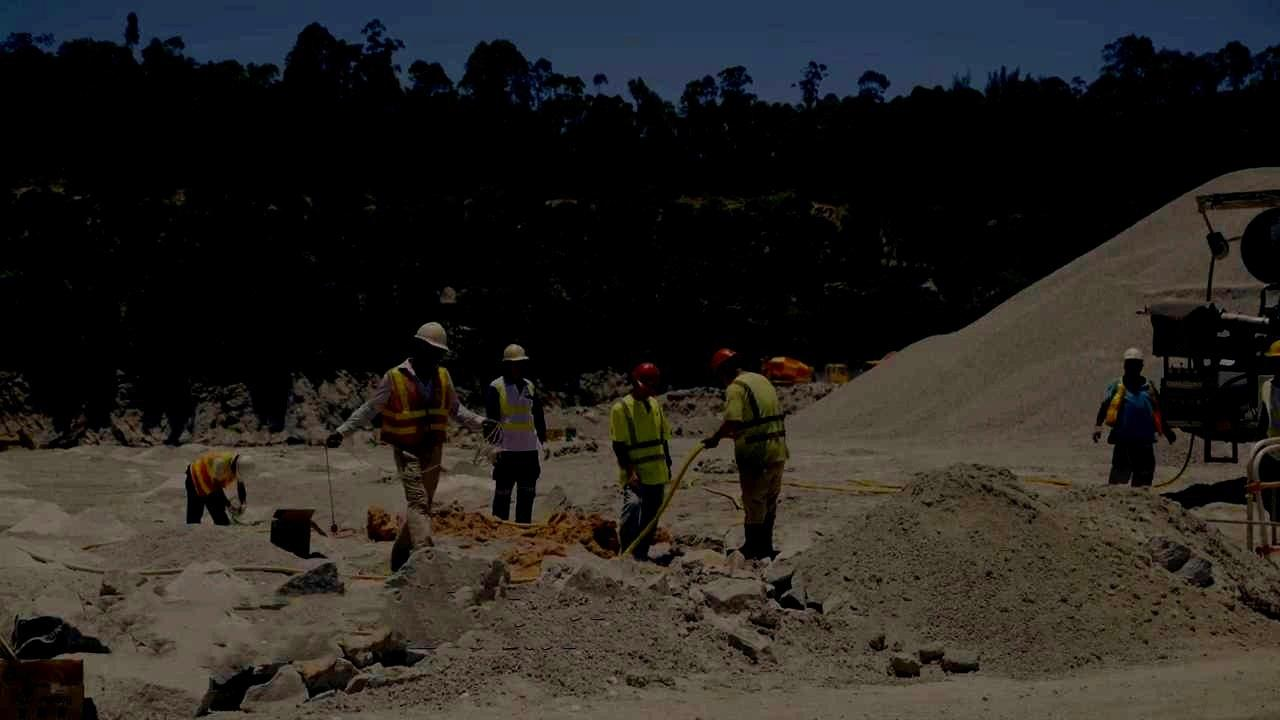helmet: (413, 322, 449, 369), (710, 349, 740, 387), (630, 362, 661, 397), (501, 344, 529, 378), (1122, 346, 1145, 379), (233, 454, 257, 482), (1265, 339, 1280, 372)
